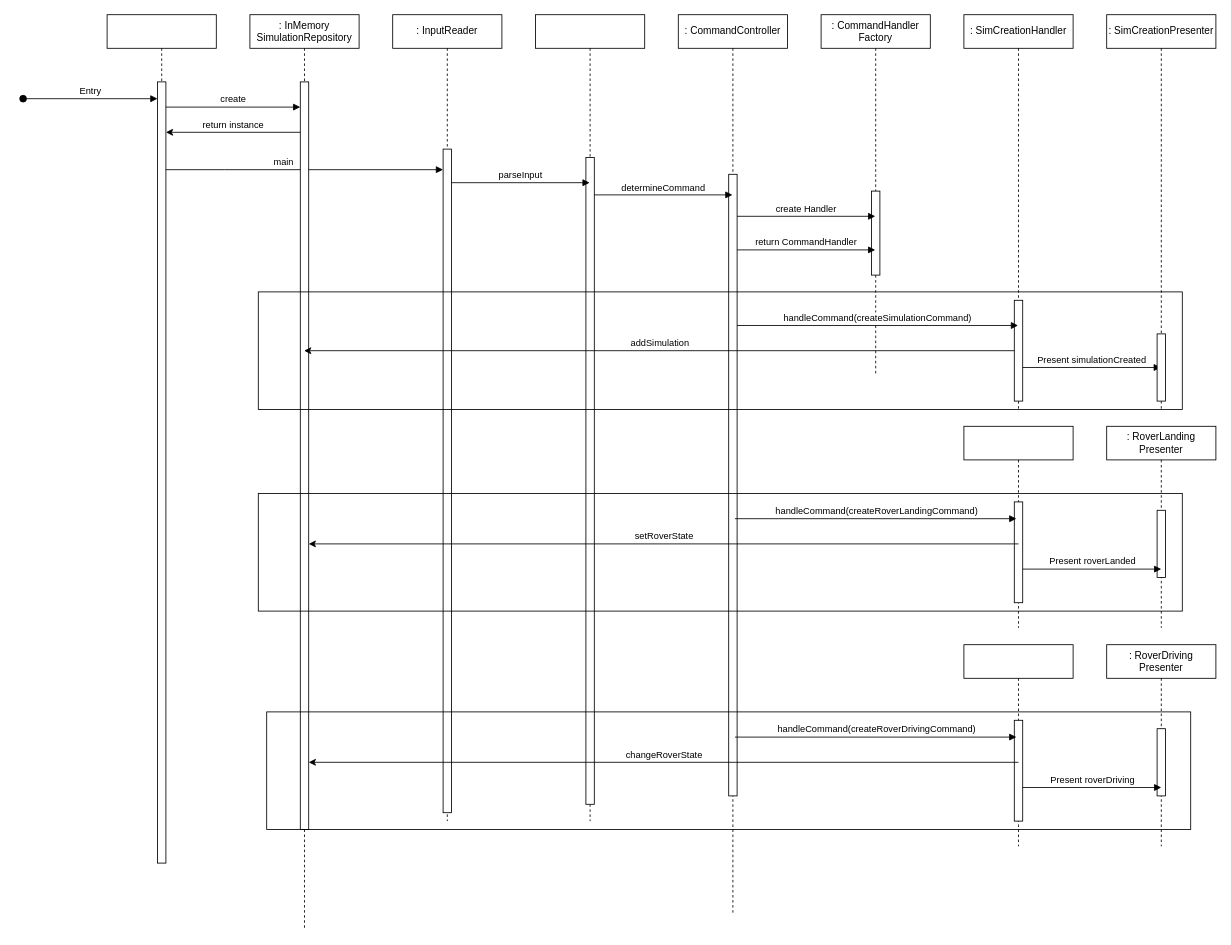
Some shapes in this 1231 by 945 pixel diagram are drawn without their labels. The box of each missing label's shape, as (x1, y1, x2, y2) in pixels:
: InputParser: (535, 14, 645, 821)
: MarsRoverApplication: (106, 14, 216, 863)
: RoverDrivingHandler: (963, 644, 1073, 846)
: RoverLandingHandler: (963, 425, 1073, 628)
